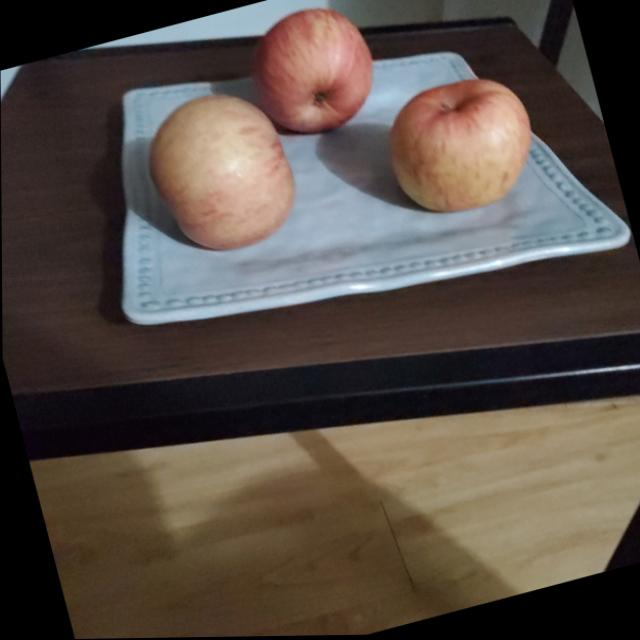apple: (136, 77, 305, 263), (378, 67, 545, 223), (236, 0, 387, 146)
